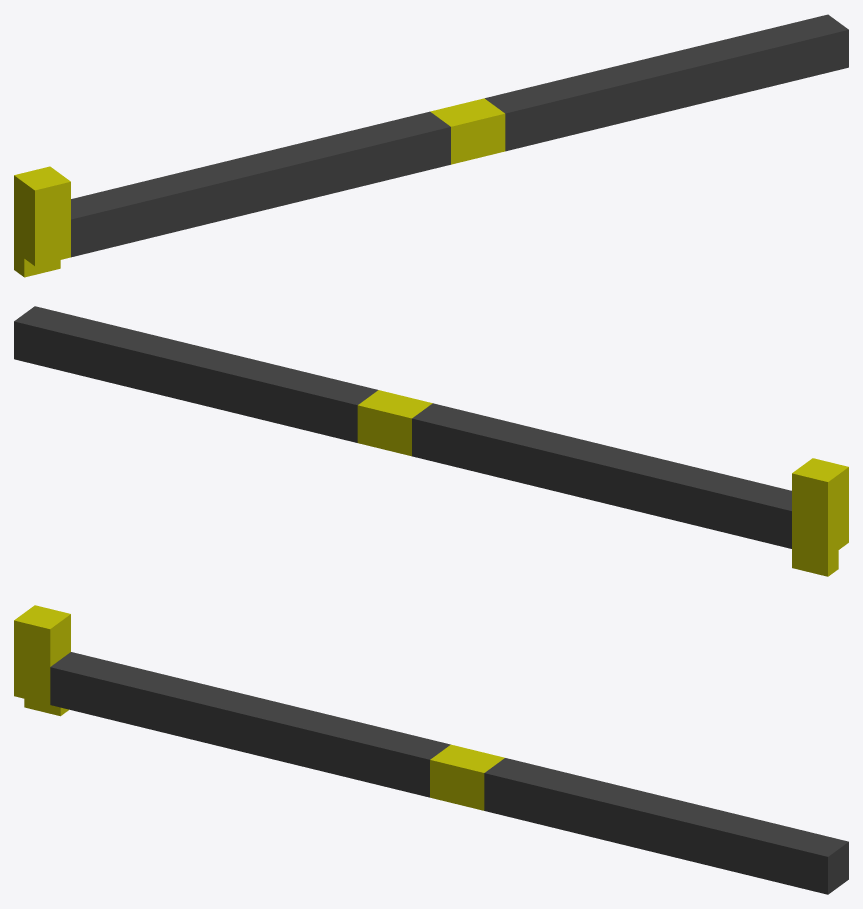
The model's file is MammothTankCannon2.obj.
The picture shows the model from 3 angles, top to bottom: view 1: azimuth 30°, elevation 25°; view 2: azimuth 150°, elevation 25°; view 3: azimuth 330°, elevation 25°; orthographic projection.
Size of the model in its own units: 4.5 by 0.5 by 0.2.
Materials: 1 (1 with a texture image).
